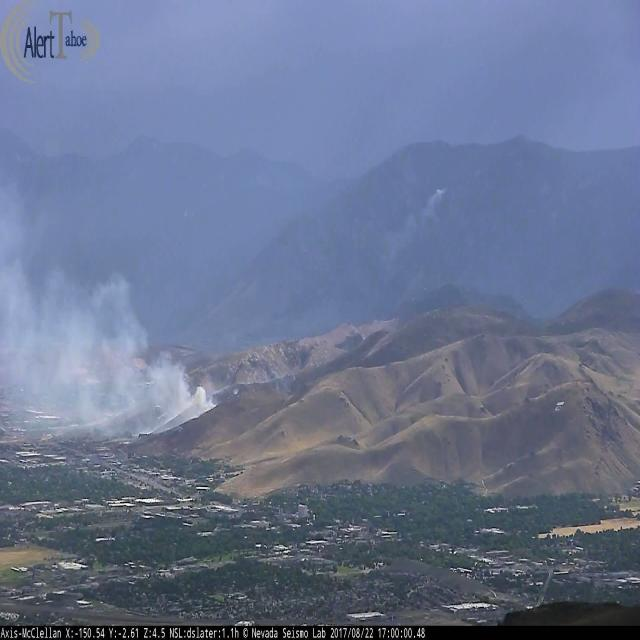smoke: (0, 196, 217, 420), (424, 182, 448, 226)
